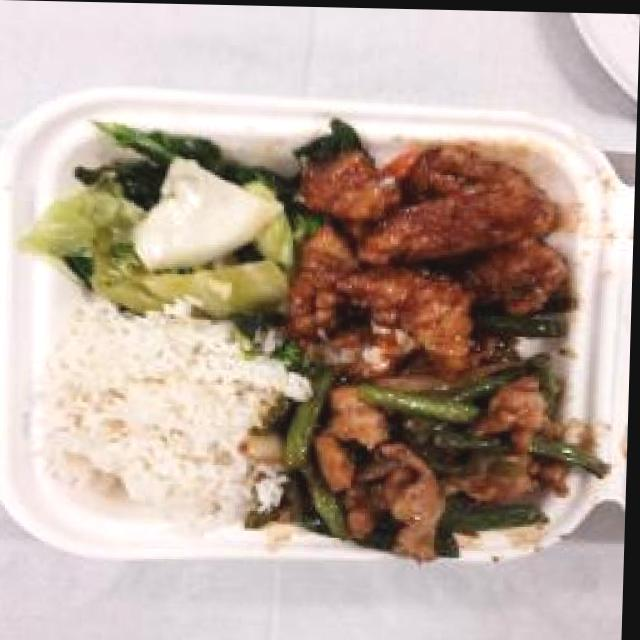String Bean Chicken Breast: (280, 348, 595, 557)
Super Greens: (46, 129, 305, 326)
The Original Orange Chicken: (280, 130, 585, 365)
White Steamed Rice: (38, 309, 276, 518)
